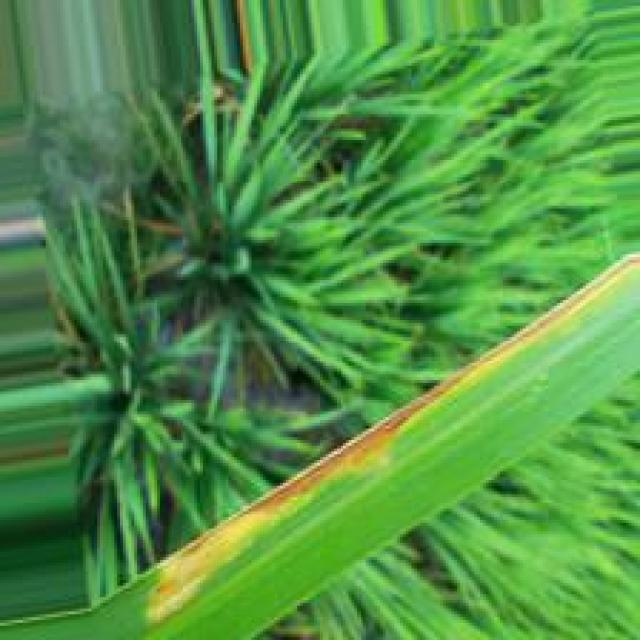Bacterial_Leaf_Blight: (149, 254, 640, 625)
